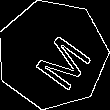M_NW: (18, 21, 87, 88)
